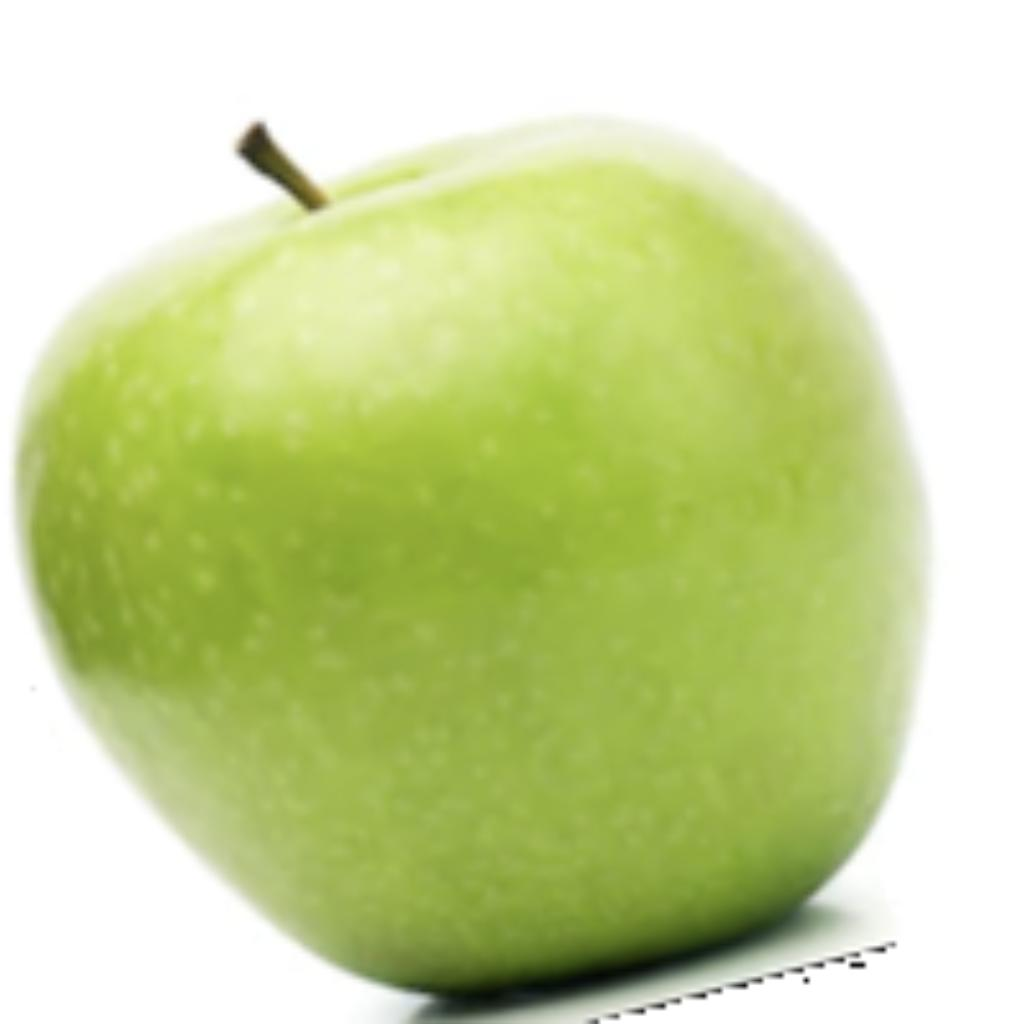apple: (5, 108, 937, 1019)
